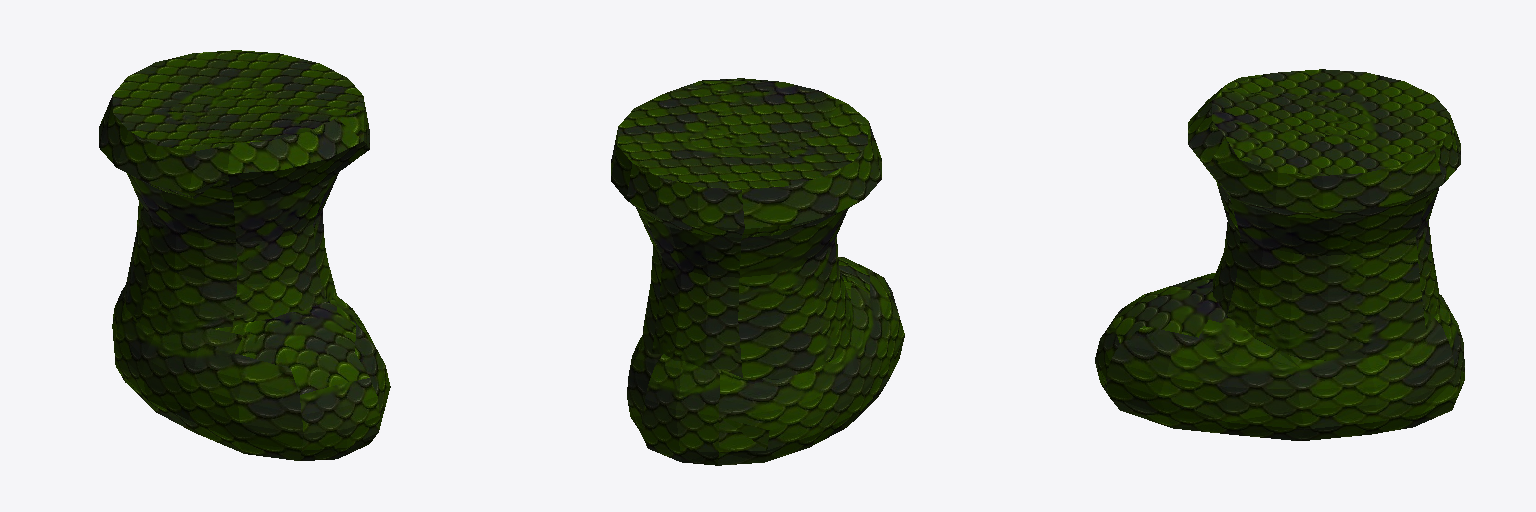
The picture shows the model from 3 angles: view 1: azimuth 30°, elevation 25°; view 2: azimuth 150°, elevation 25°; view 3: azimuth 270°, elevation 25°; orthographic projection.
Size of the model in its own units: 1.08 by 1.27 by 1.47.
Materials: 1 (1 with a texture image).